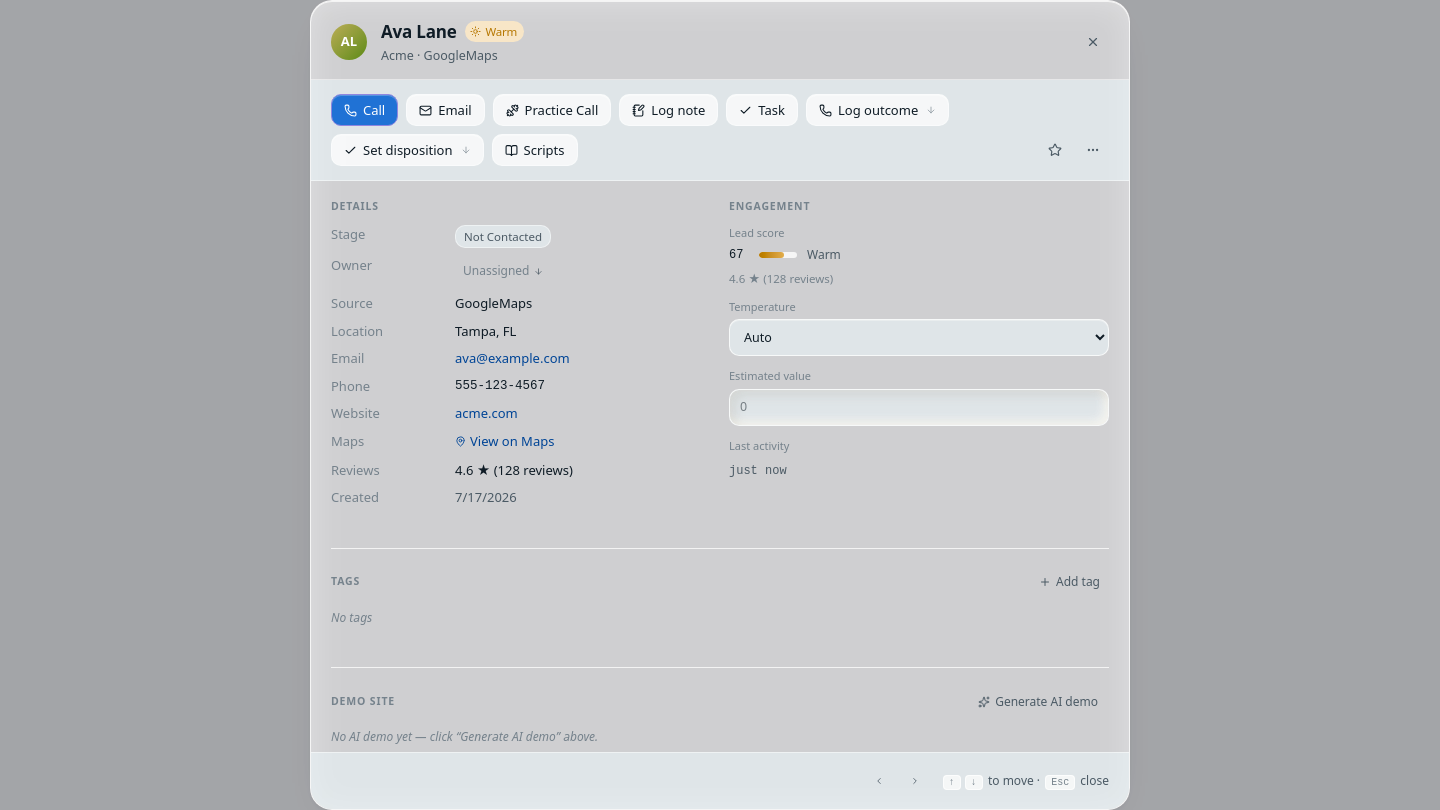
Test: LeadModal › opens scripts from the shared scripts data source
Click the button "Scripts".
click(534, 150)  # box [492, 134, 578, 166]
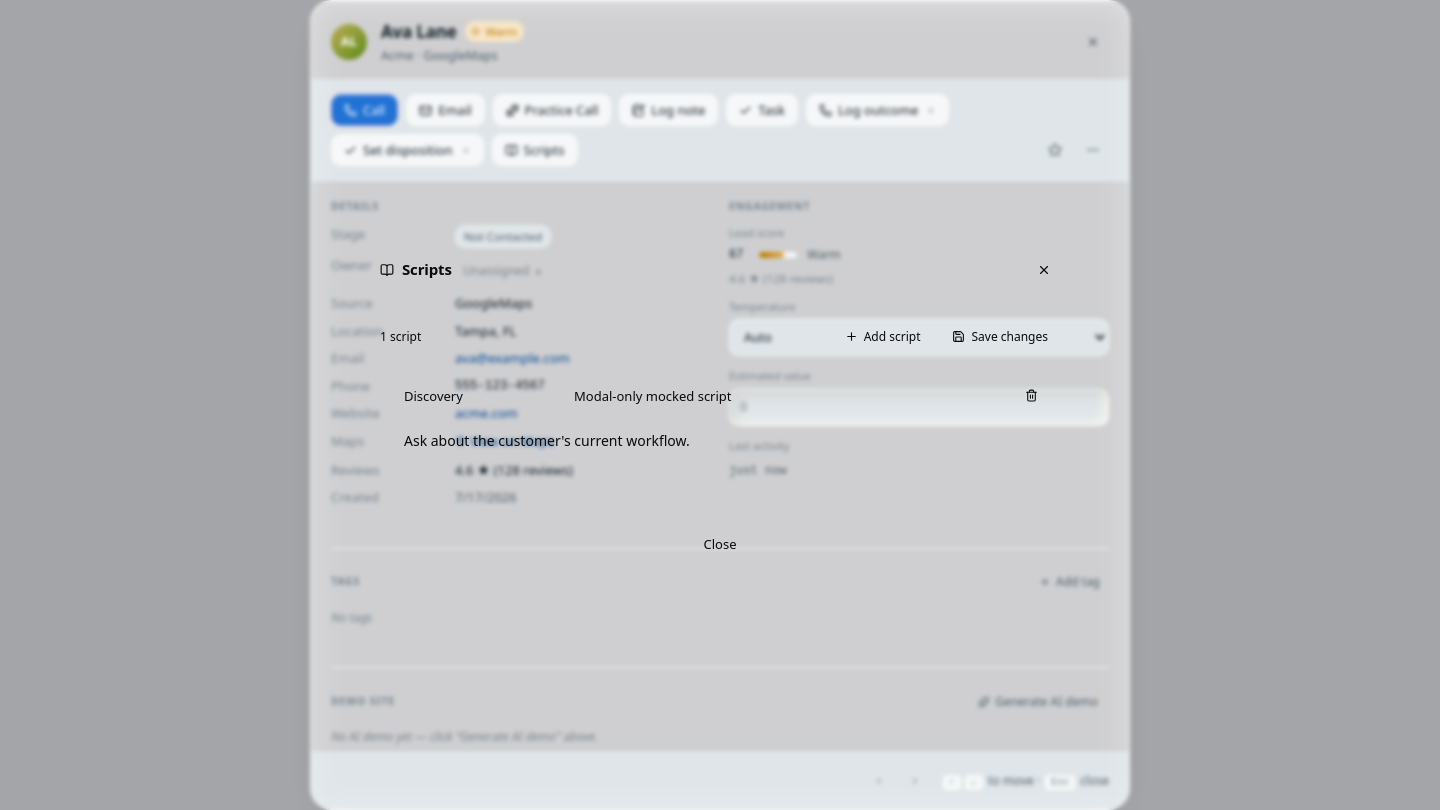
Check: the 1st field showing "Discovery" is shown, box [394, 380, 554, 412]
Check: the 2nd field showing "Modal-only mocked script" is shown, box [564, 380, 1006, 412]
Check: the text box showing "Ask about the customer's current workflow." is shown, box [394, 422, 1046, 482]
